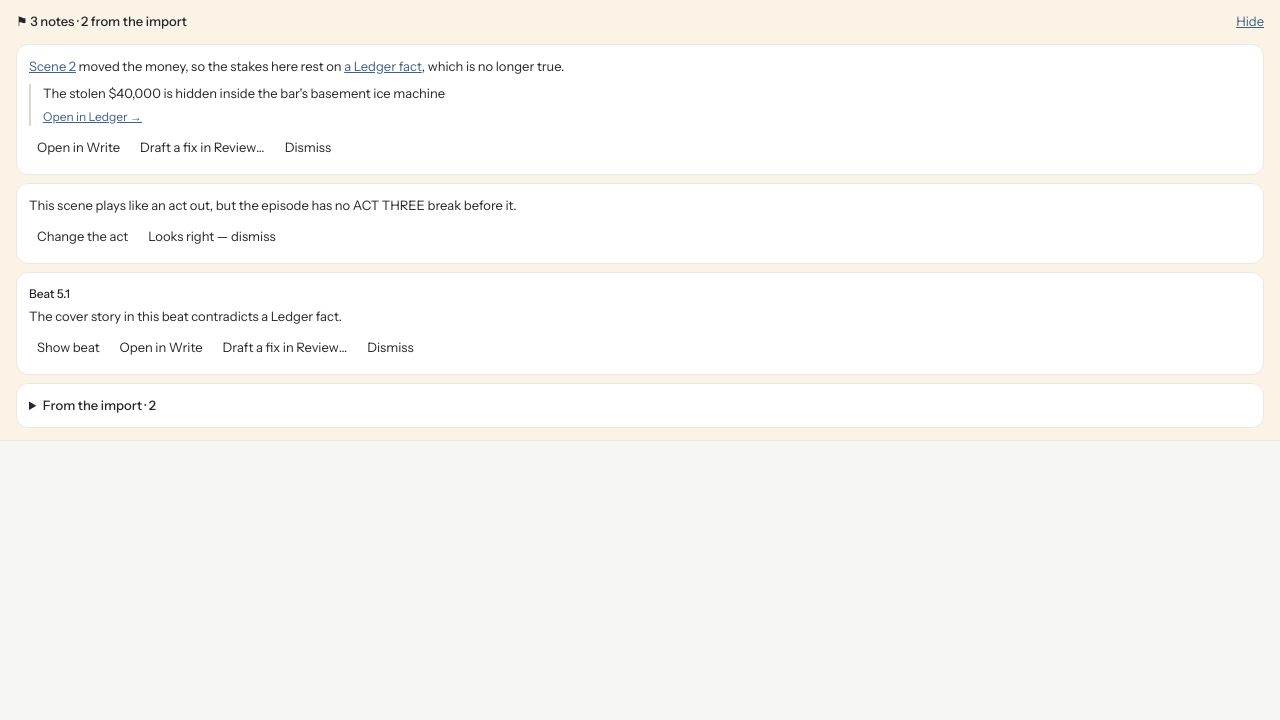
Scenario: NotesStrip › a failed send shows the error inline, keeps the edited text and focuses it
Click the button "Draft a fix in Review…" below ", which is no longer true." at (202, 148), box [132,134,273,162]
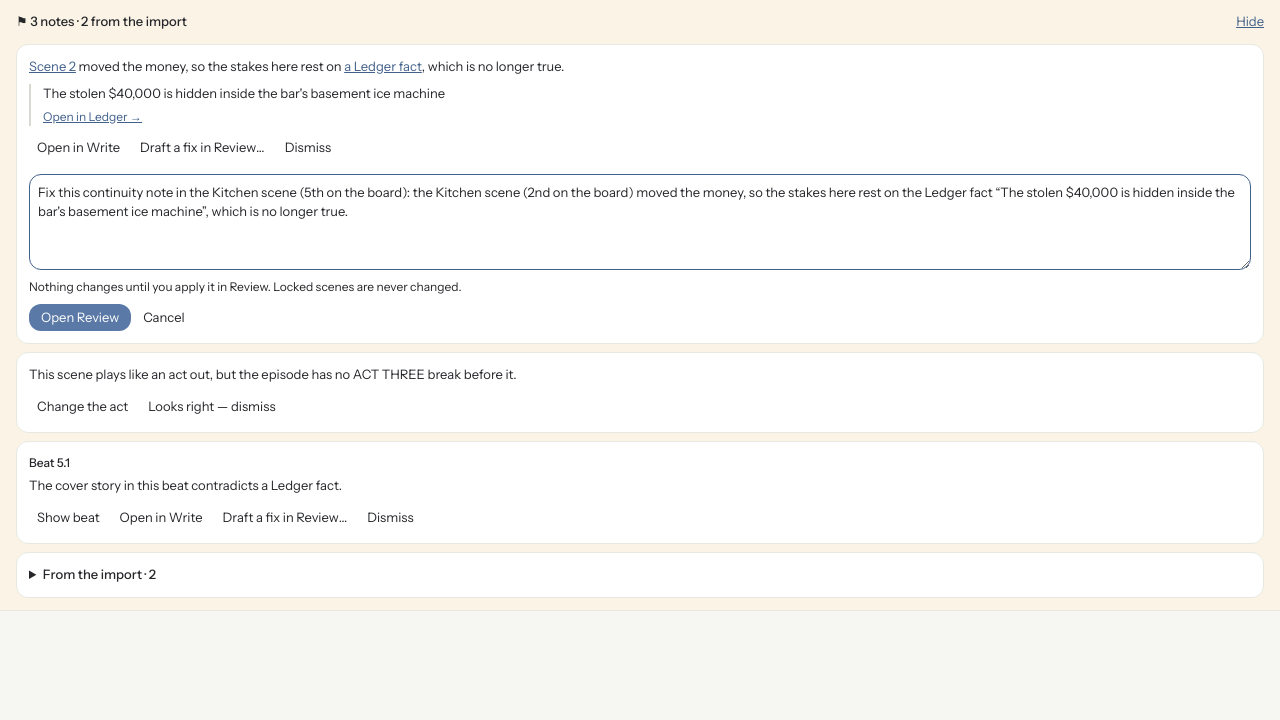
Type " Keep the fight." into the text box named "Fix instruction" at (640, 222), box [29,174,1251,270]
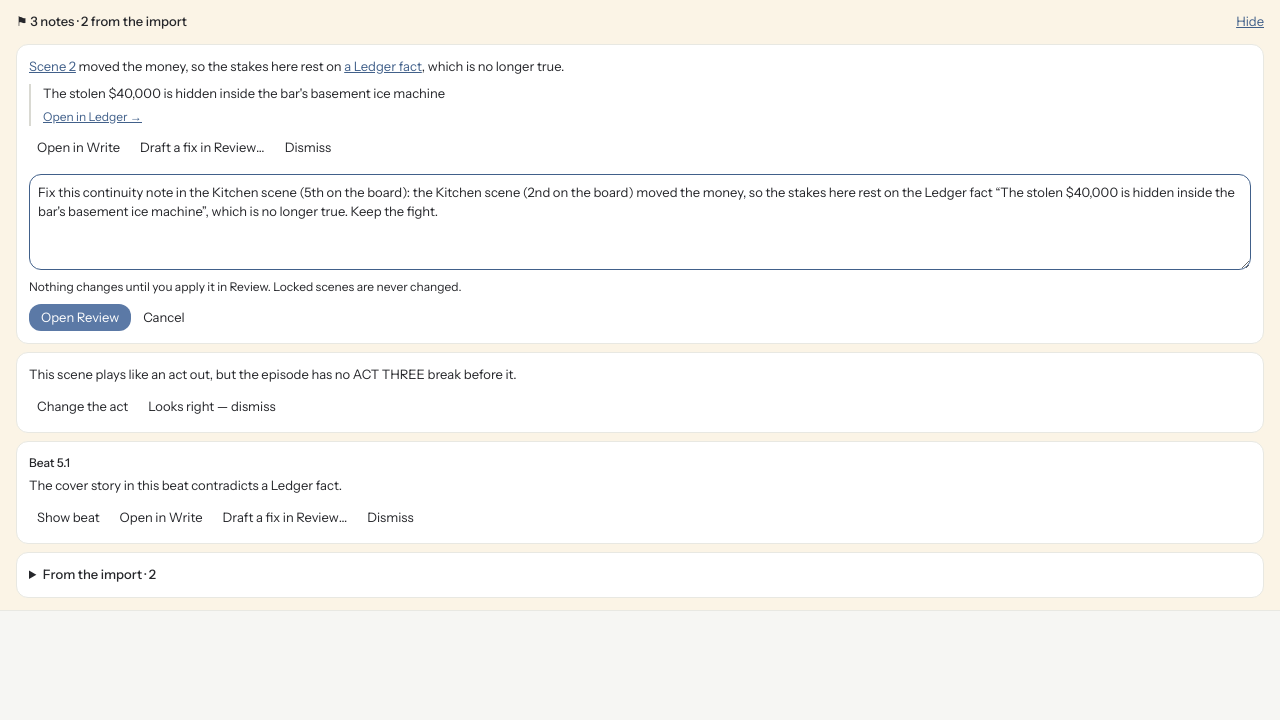
Click the button "Open Review" at (80, 317), box [29,304,131,331]
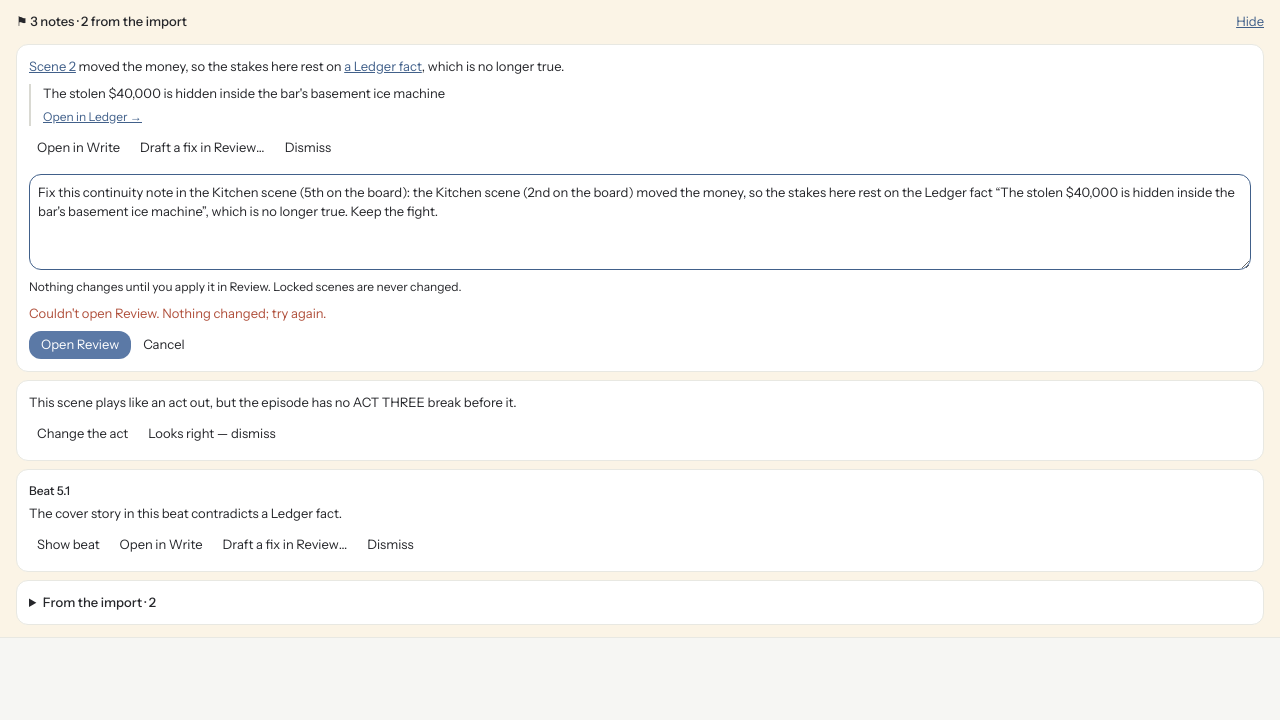
Now the button "Open Review" is enabled, box [29,331,131,358]
Now the message reads "Couldn't open Review. Nothing changed; try again.", box [29,304,326,320]
